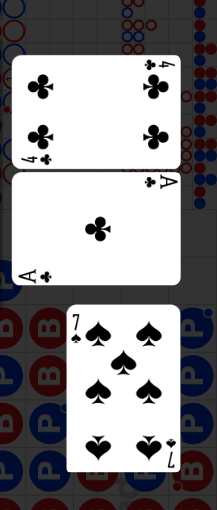4C: (20, 151, 54, 166)
7S: (164, 436, 178, 469)
AC: (139, 174, 178, 192)
